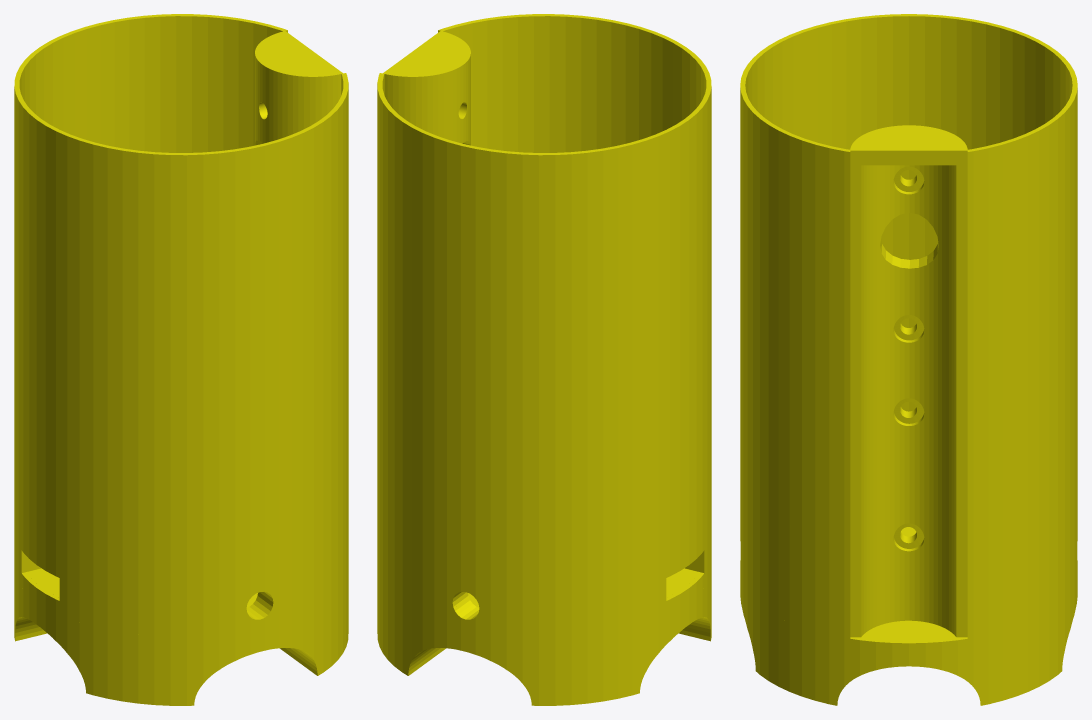
File: cansat.glb
3 views of the same model, side by side, from view 1: azimuth 30°, elevation 25°; view 2: azimuth 150°, elevation 25°; view 3: azimuth 270°, elevation 25° (orthographic).
Visible parts, largest first — view 1: steinsat; view 2: steinsat; view 3: steinsat.
Part boxes in pixels (x1=…): steinsat: x1=14, y1=14, x2=348, y2=705; steinsat: x1=377, y1=14, x2=711, y2=705; steinsat: x1=740, y1=14, x2=1077, y2=705.
Size of the model in its own units: 3.3 by 6 by 3.3.
